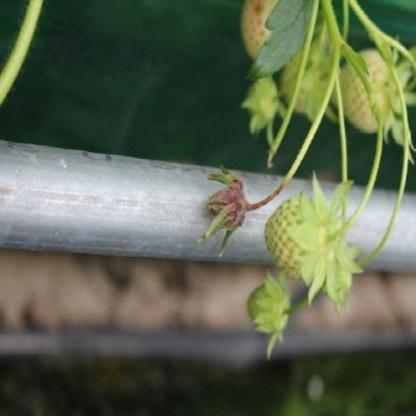Strawberry_Gray_Mold: (196, 165, 275, 253)
